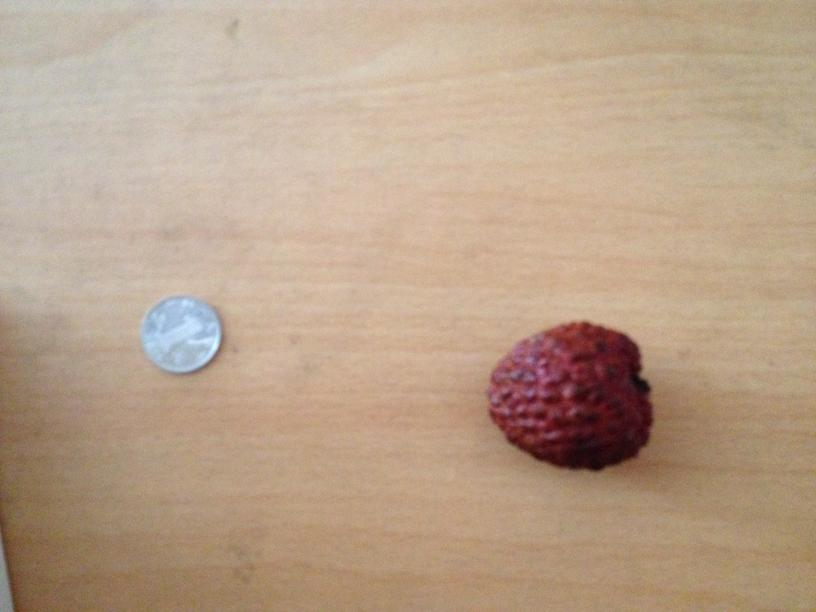coin: (143, 294, 221, 372)
litchi: (486, 320, 652, 470)
